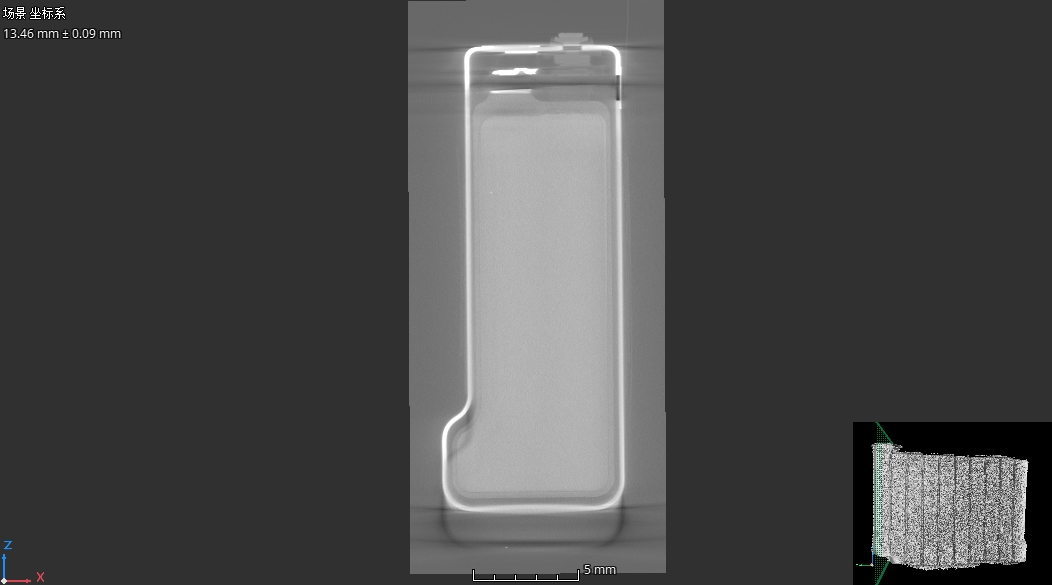light: (487, 190, 493, 197)
